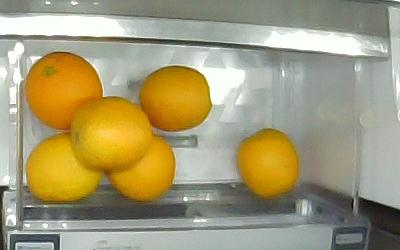orange: (70, 96, 151, 172), (26, 52, 102, 131), (26, 134, 103, 201), (141, 66, 212, 133), (108, 133, 175, 201), (235, 129, 298, 199)
